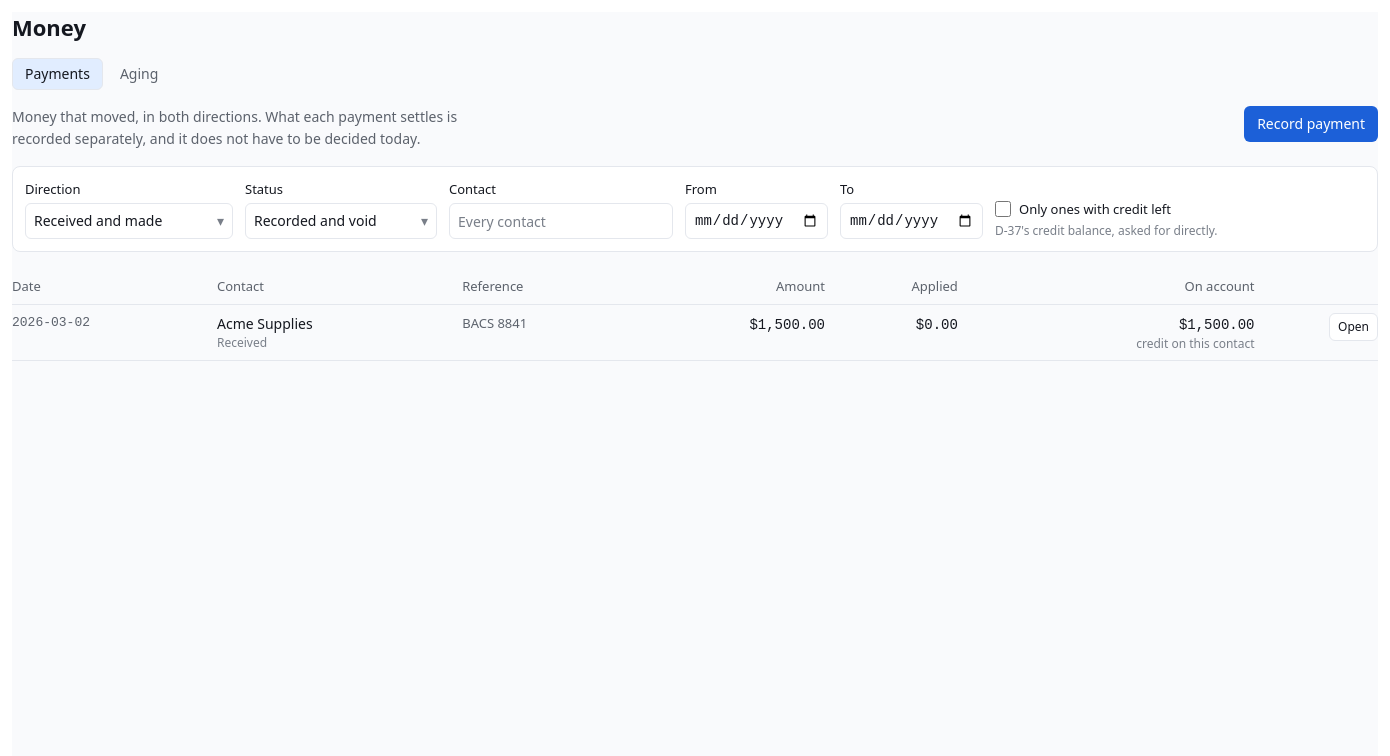
it: MoneyInScreen — payments › shows an early-pay discount suggestion next to an eligible invoice
Click the button with aria-label "Open the 2026-03-02 payment for Acme Supplies".
click(1354, 327)  # box [1329,313,1378,341]
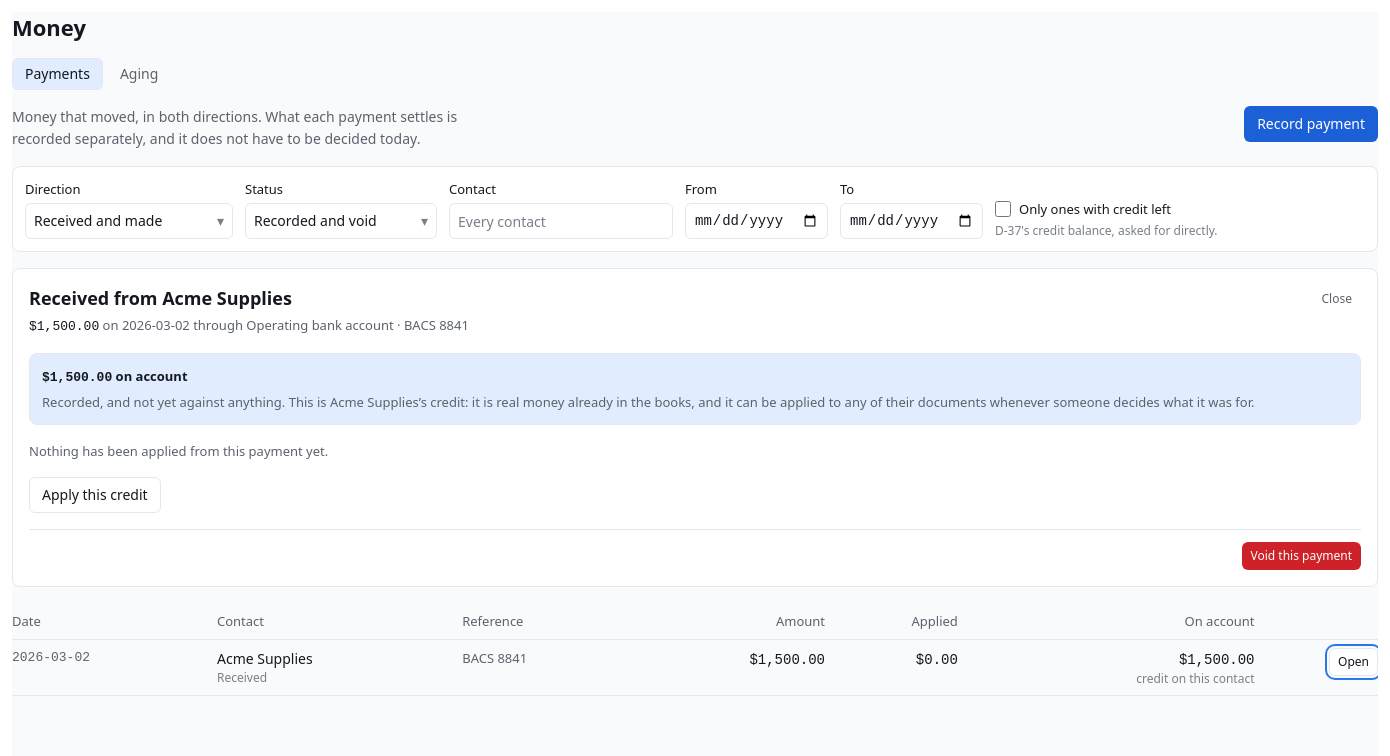
Click the button "Apply this credit".
click(95, 495)  # box [29,477,161,513]
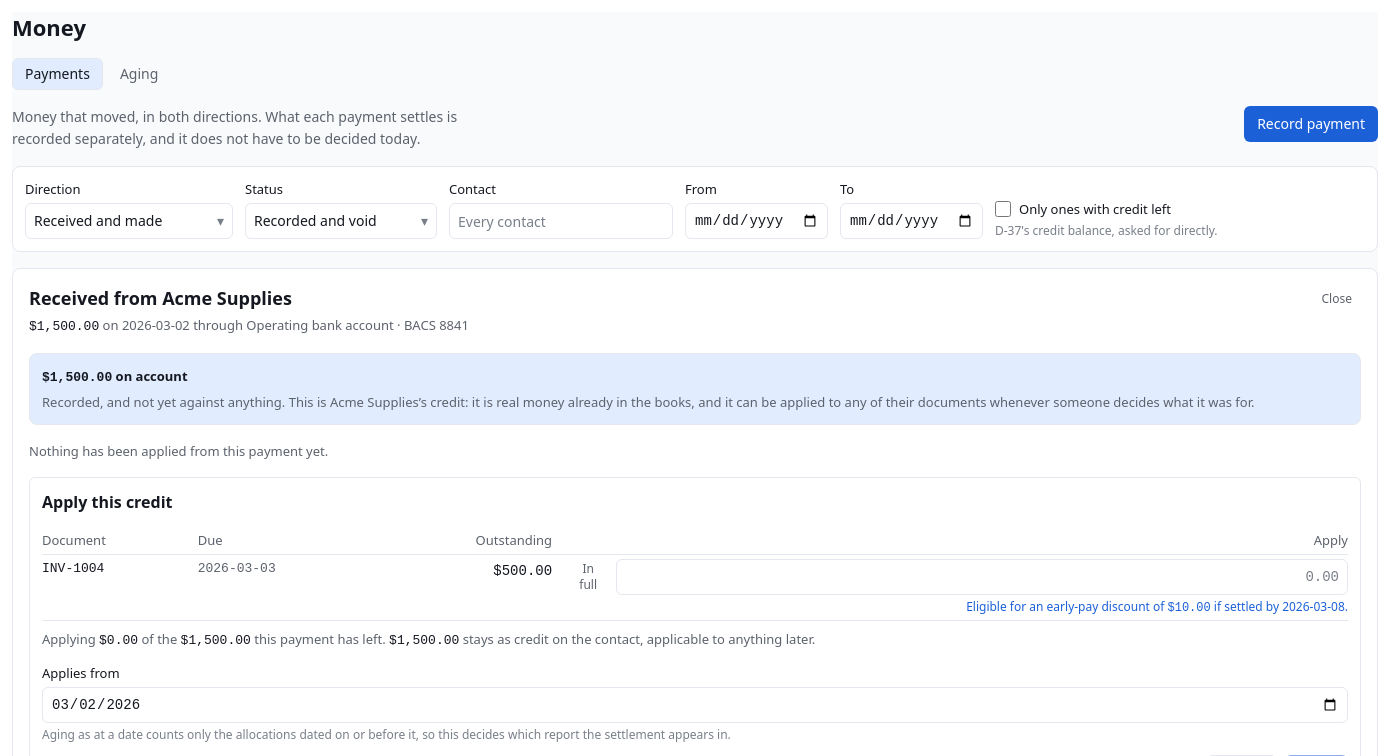
Expected: the text "Eligible for an early-pay discount" shows "$10.00", [1168,601,1211,615]
Expected: the text "Eligible for an early-pay discount" shows "2026-03-08", [1282,598,1345,615]
